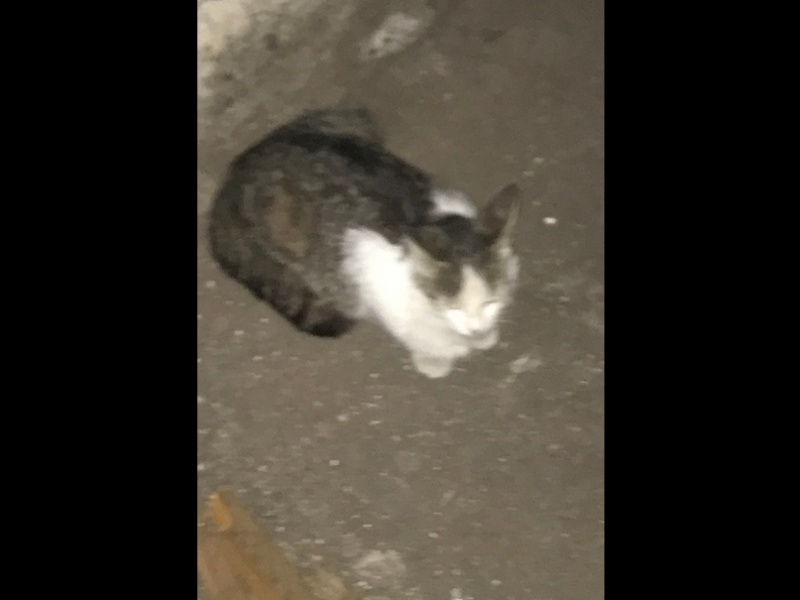cat: (206, 98, 529, 385)
